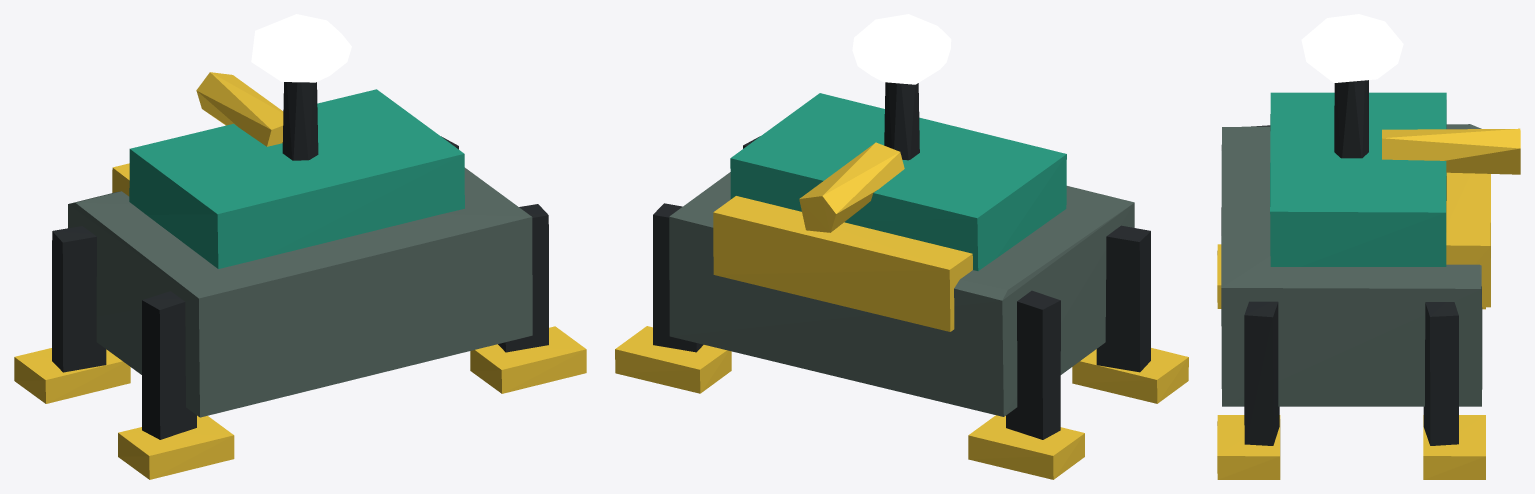
File: SM_Coalition_CO_KamakiriWalker_LOD3.fbx
The picture shows the model from 3 angles, left to right: view 1: azimuth 30°, elevation 25°; view 2: azimuth 150°, elevation 25°; view 3: azimuth 270°, elevation 25°; orthographic projection.
Parts seen in each view (by area): view 1: LOD03_SM_Coalition_CO_KamakiriWalker; view 2: LOD03_SM_Coalition_CO_KamakiriWalker; view 3: LOD03_SM_Coalition_CO_KamakiriWalker.
Boxes of the visible parts, x1,y1,x2,y2 form: LOD03_SM_Coalition_CO_KamakiriWalker: [14, 14, 586, 479]; LOD03_SM_Coalition_CO_KamakiriWalker: [615, 14, 1188, 479]; LOD03_SM_Coalition_CO_KamakiriWalker: [1217, 14, 1520, 479].
Size of the model in its own units: 348 by 210 by 269.
